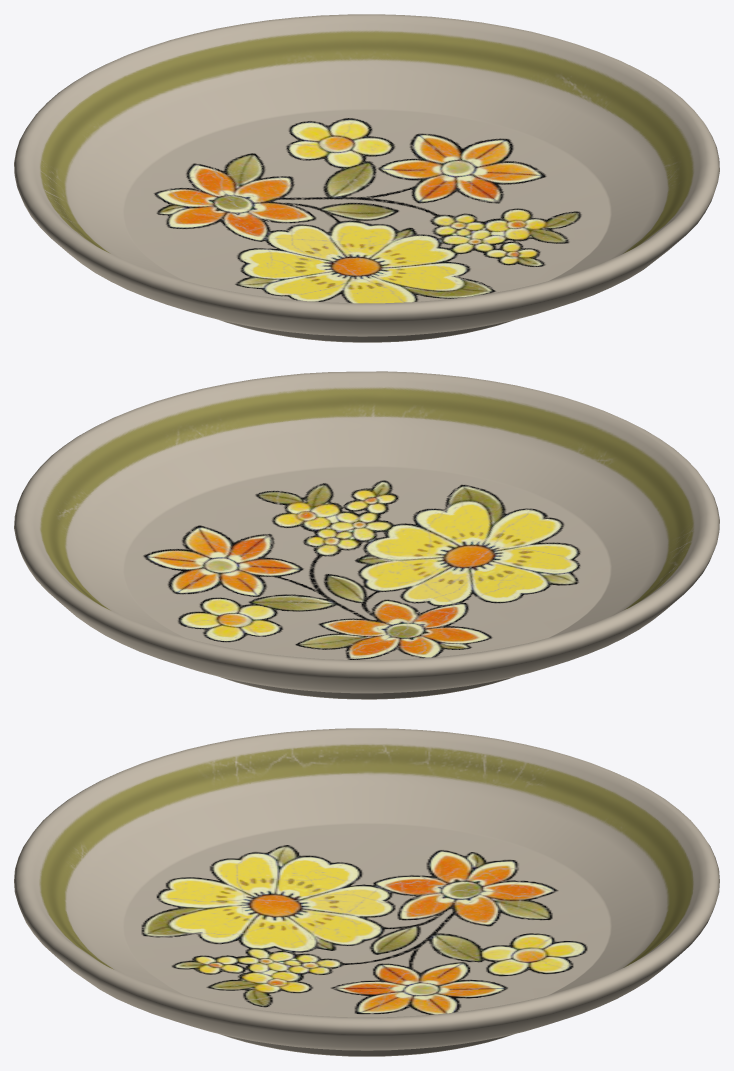
File: SM_Plate_Mug_Plate_A.fbx
3 renders of one model, top to bottom at view 1: azimuth 30°, elevation 25°; view 2: azimuth 150°, elevation 25°; view 3: azimuth 270°, elevation 25°, orthographic.
Visible parts, largest first — view 1: SM_Plate_Mug_Plate_A_LOD0; view 2: SM_Plate_Mug_Plate_A_LOD0; view 3: SM_Plate_Mug_Plate_A_LOD0.
Boxes of the visible parts, x1=… form: SM_Plate_Mug_Plate_A_LOD0: x1=14, y1=14, x2=719, y2=342; SM_Plate_Mug_Plate_A_LOD0: x1=14, y1=371, x2=719, y2=699; SM_Plate_Mug_Plate_A_LOD0: x1=14, y1=728, x2=719, y2=1056.
Bounding box in the file's own units: 33.47 × 33.47 × 4.55.
1 material, 1 textured.
